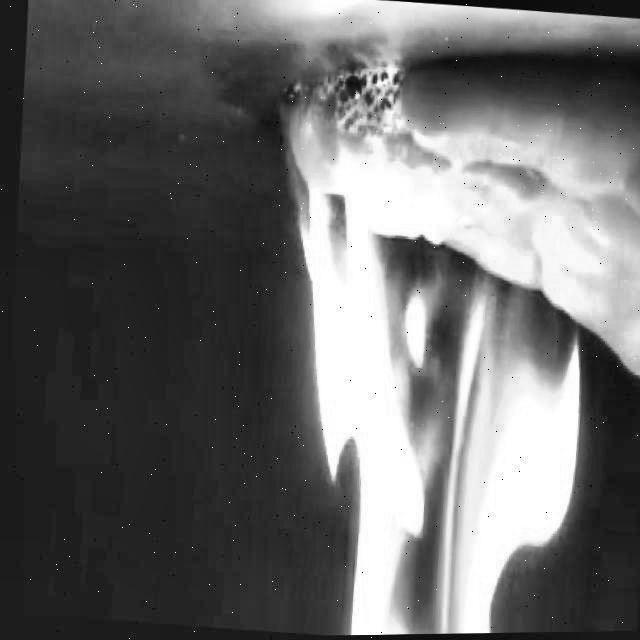Fire: (255, 141, 623, 637)
